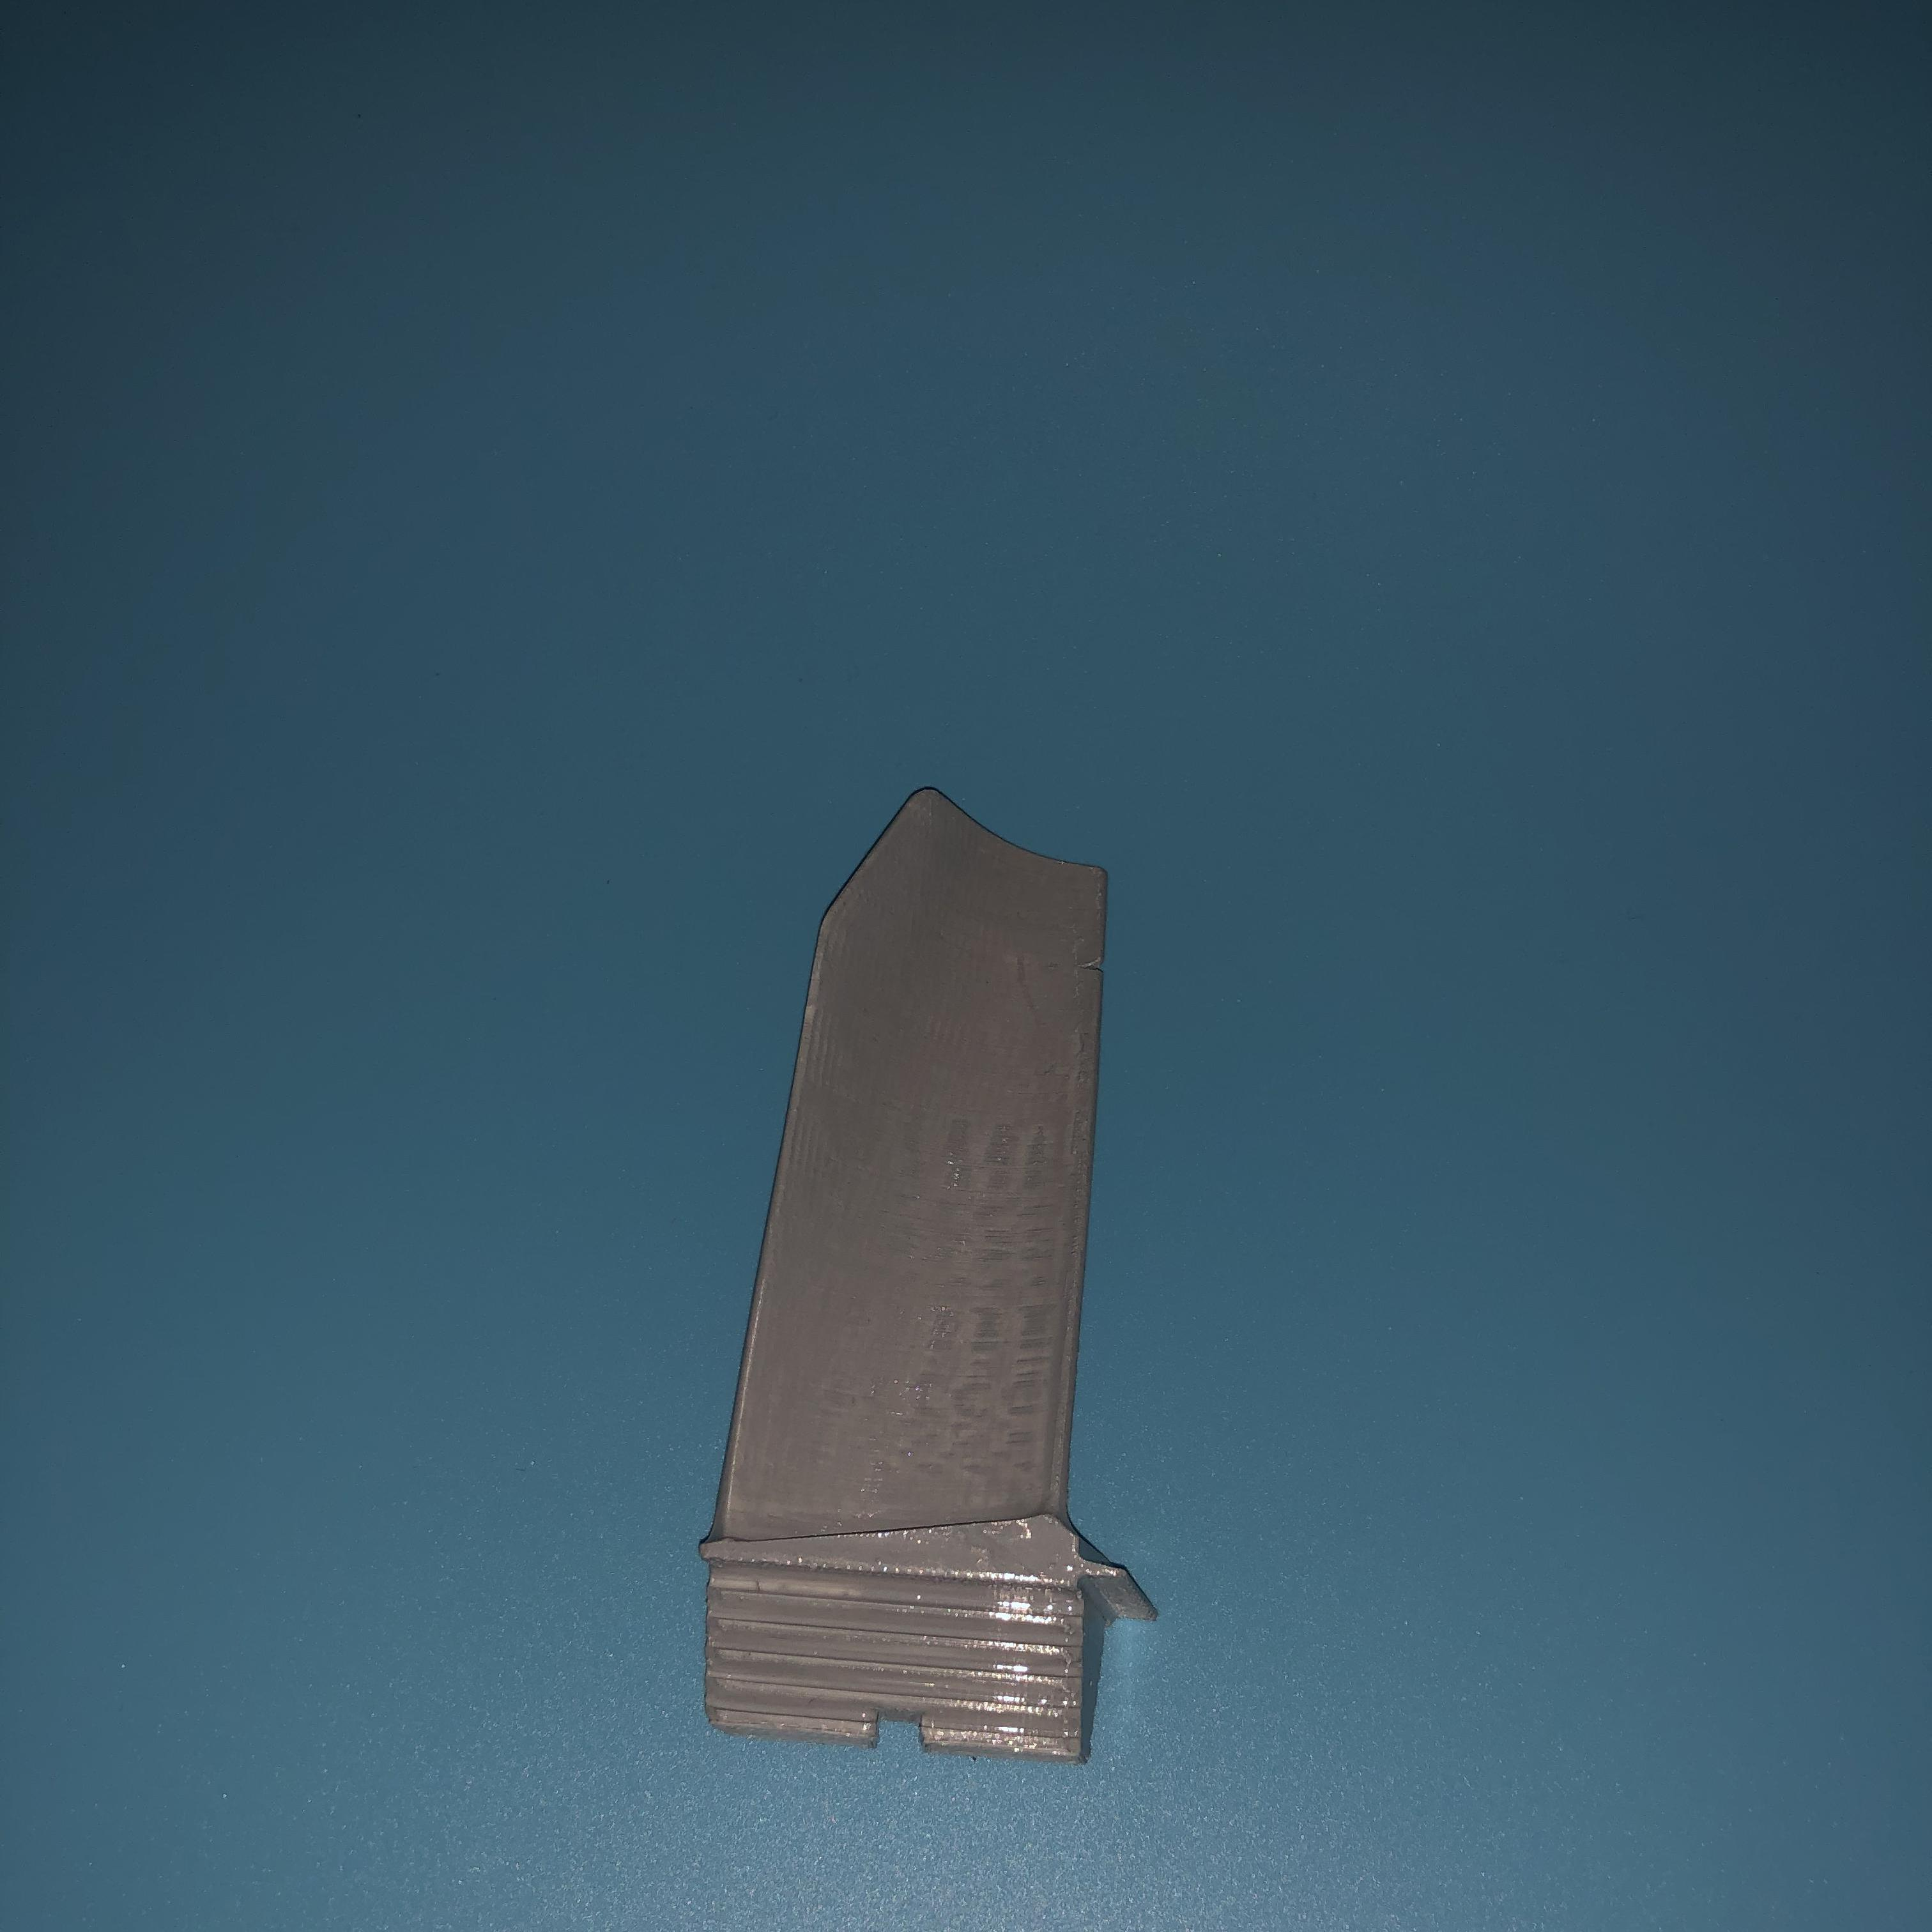groove: (1083, 945, 1111, 975)
